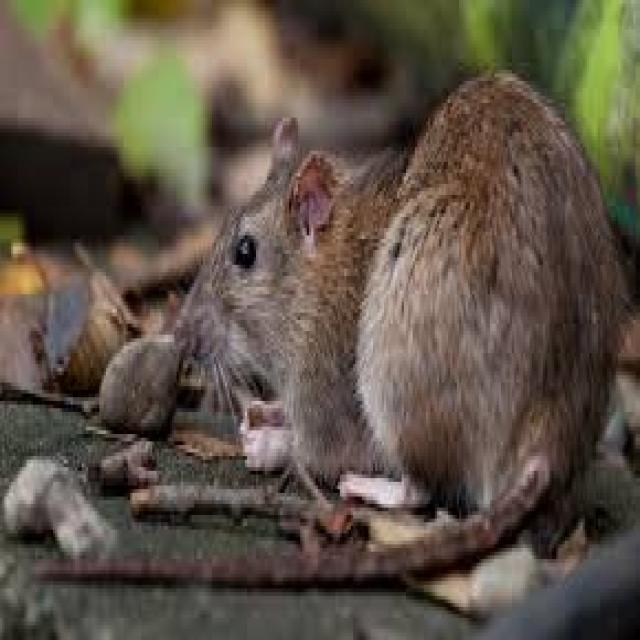Rat: (126, 46, 616, 633)
